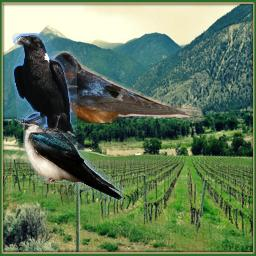Crow: (12, 33, 77, 137)
Swallow: (46, 51, 205, 123), (23, 112, 124, 202)
